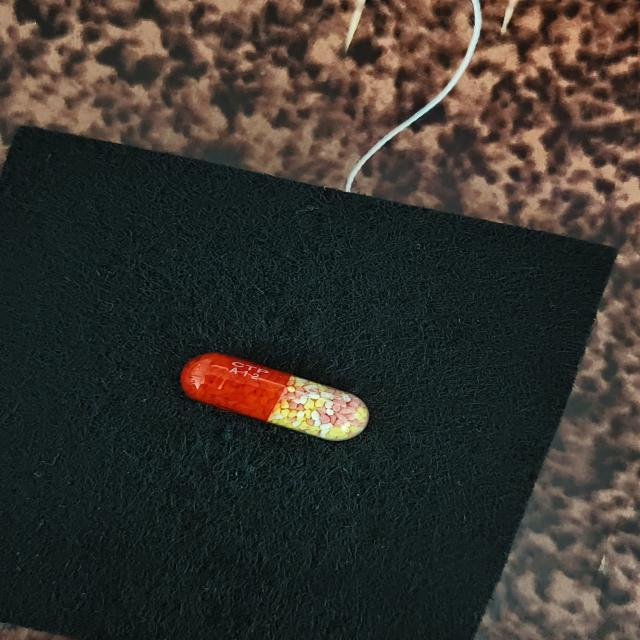Intact Capsule: (180, 353, 369, 441)
